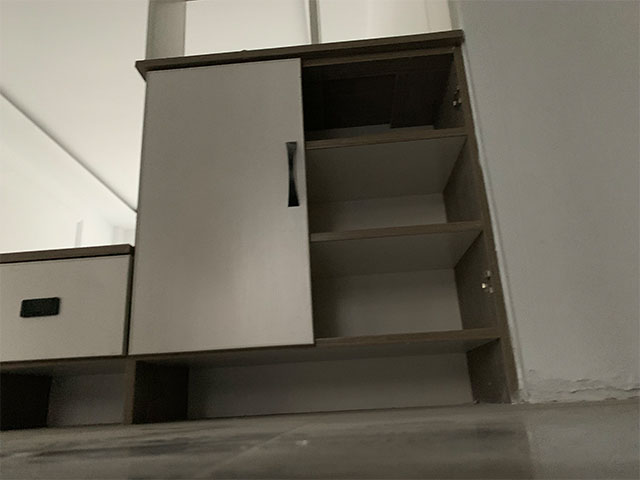cabinet: (1, 28, 519, 430)
